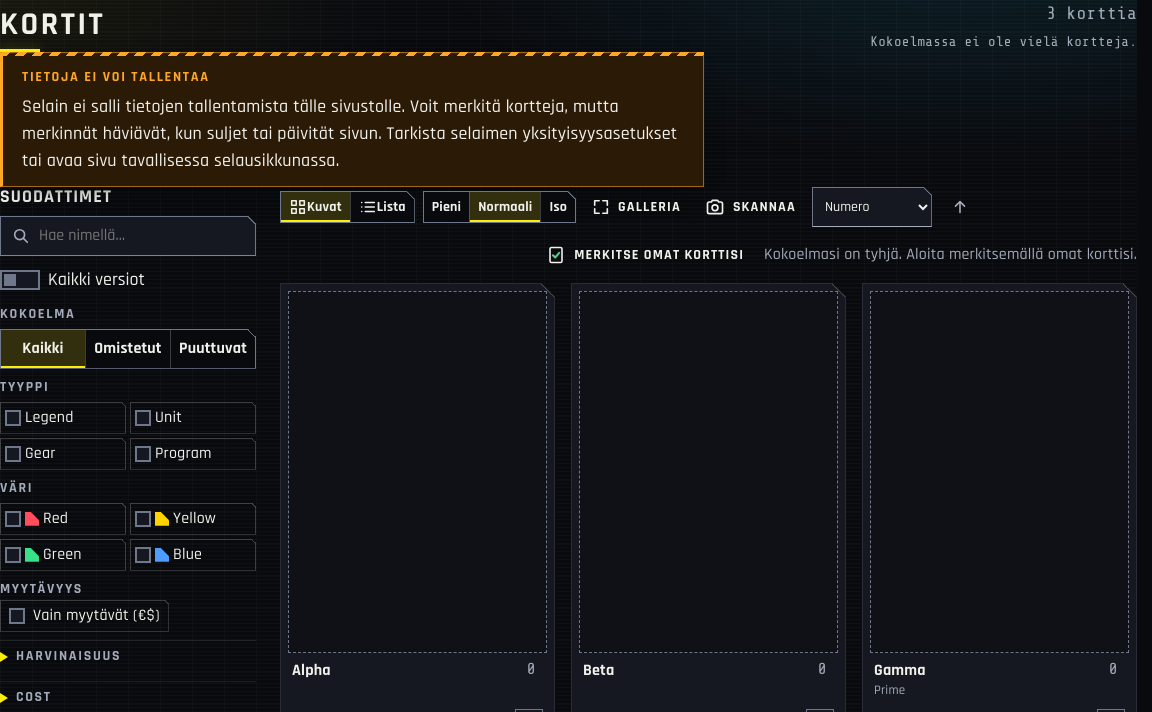
Test case: Gallery (T-123): opening and closing › opens from the toolbar button, shows only the pictures and moves focus to the bar
Click the button "Galleria".
click(636, 207)  # box [584, 187, 689, 227]
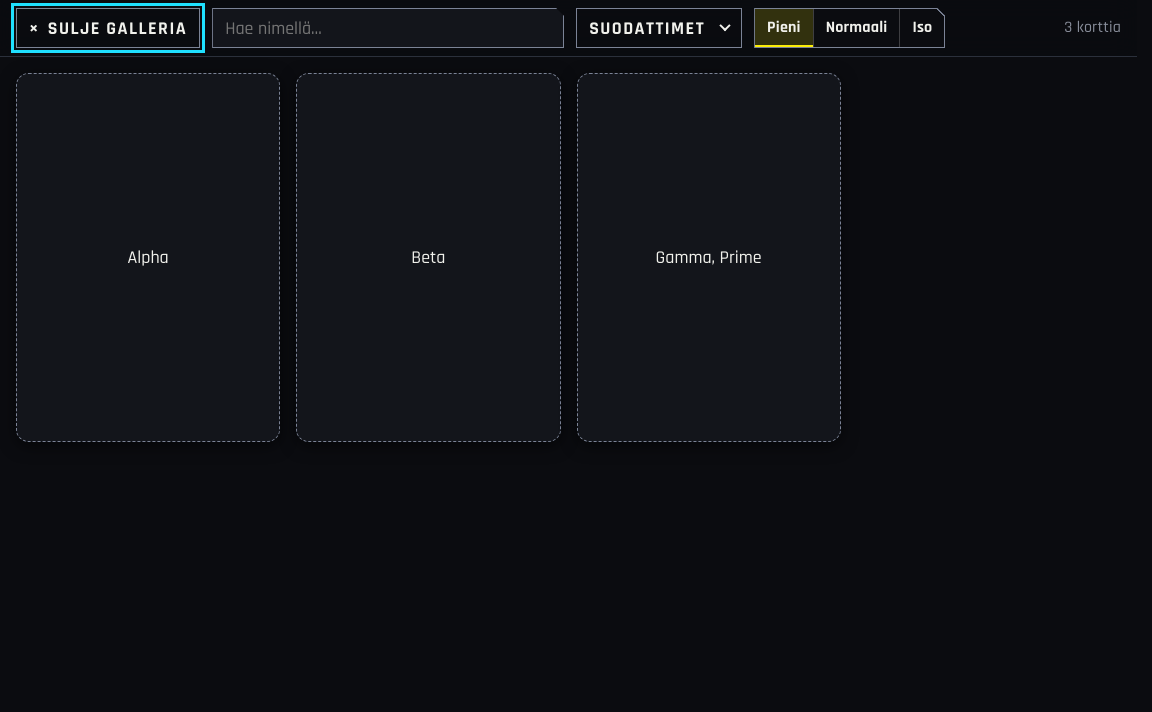
Expected: the list named "Galleria: korttien kuvitukset" is shown, [16, 73, 841, 442]
Expected: the element showing "× Sulje galleria Suodattimet Pieni Normaali Iso 3 korttia" is shown, [0, 0, 1137, 57]
Expected: the heading "Kortit" is gone
